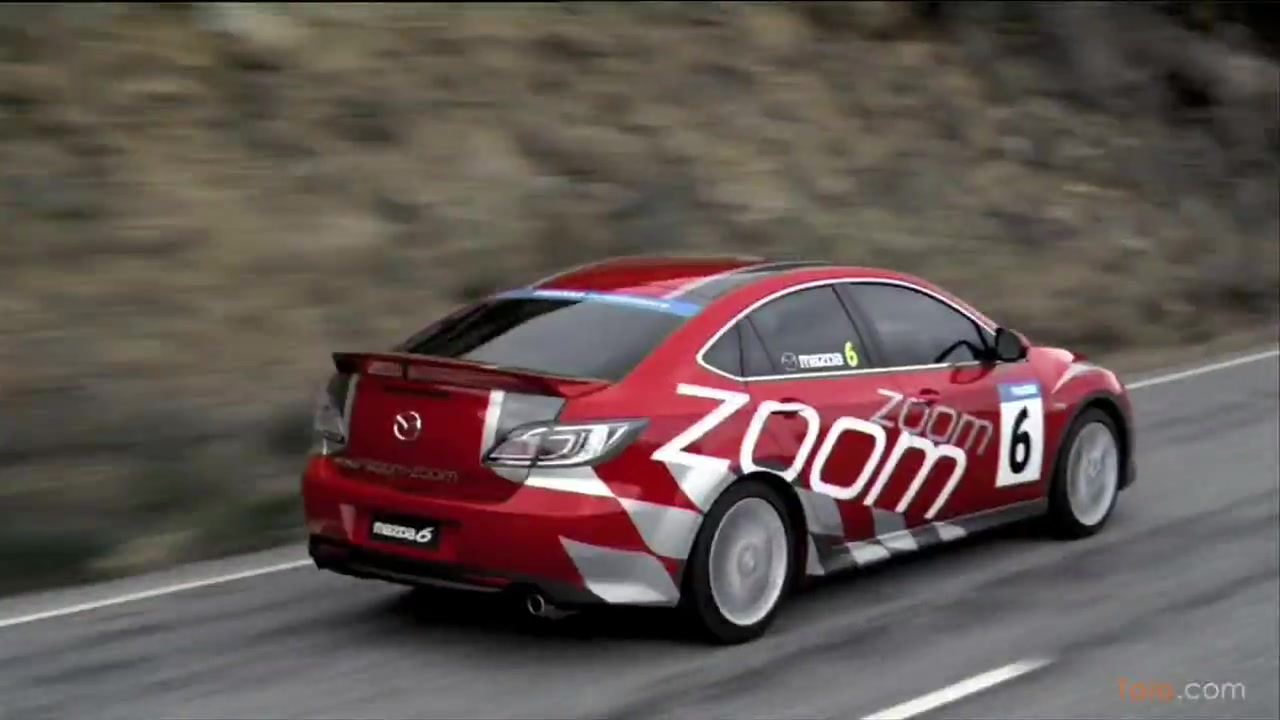car: (295, 250, 1139, 656)
